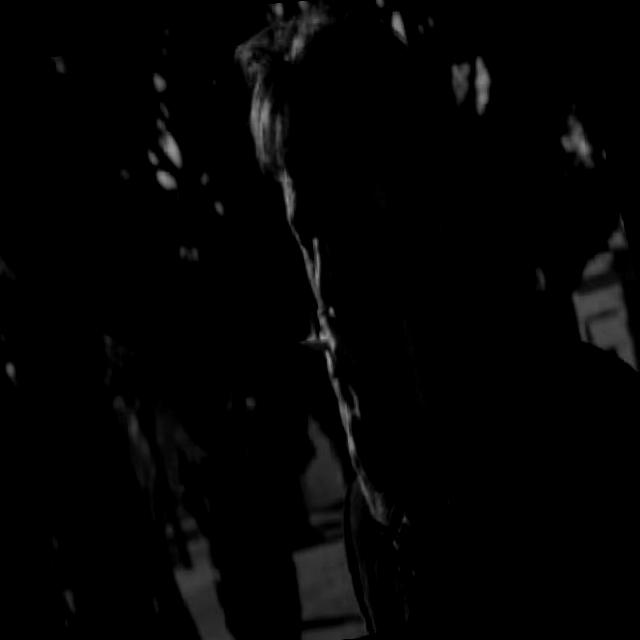cigarette: (294, 322, 436, 504)
